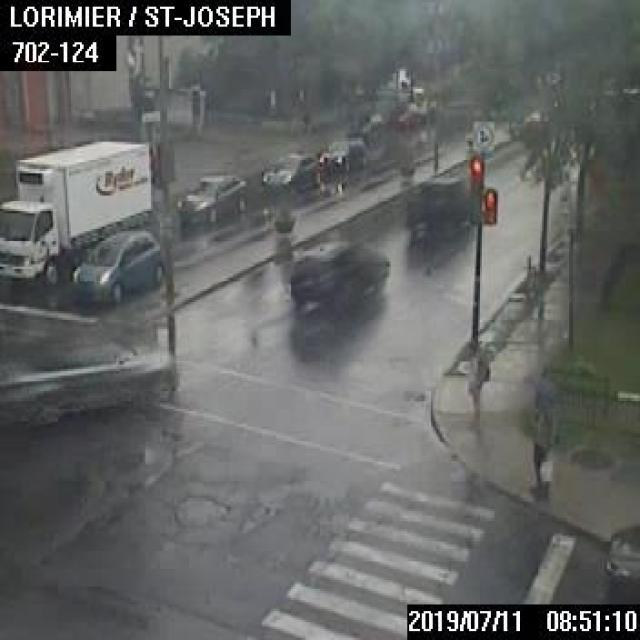pedestrian: (520, 367, 553, 498)
vehicle: (0, 138, 153, 289), (0, 327, 176, 429), (288, 237, 388, 315), (71, 230, 163, 300), (175, 172, 246, 226), (403, 172, 469, 229), (604, 524, 638, 600), (260, 152, 316, 196), (318, 138, 365, 173), (346, 111, 383, 140), (389, 103, 424, 126)
